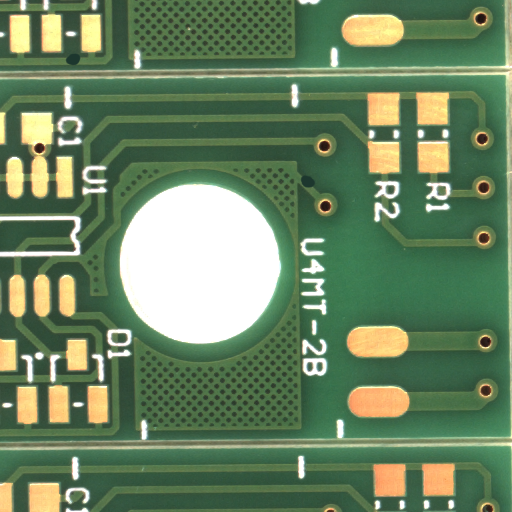Mouse_bite: (308, 181, 323, 194), (72, 59, 89, 70)
